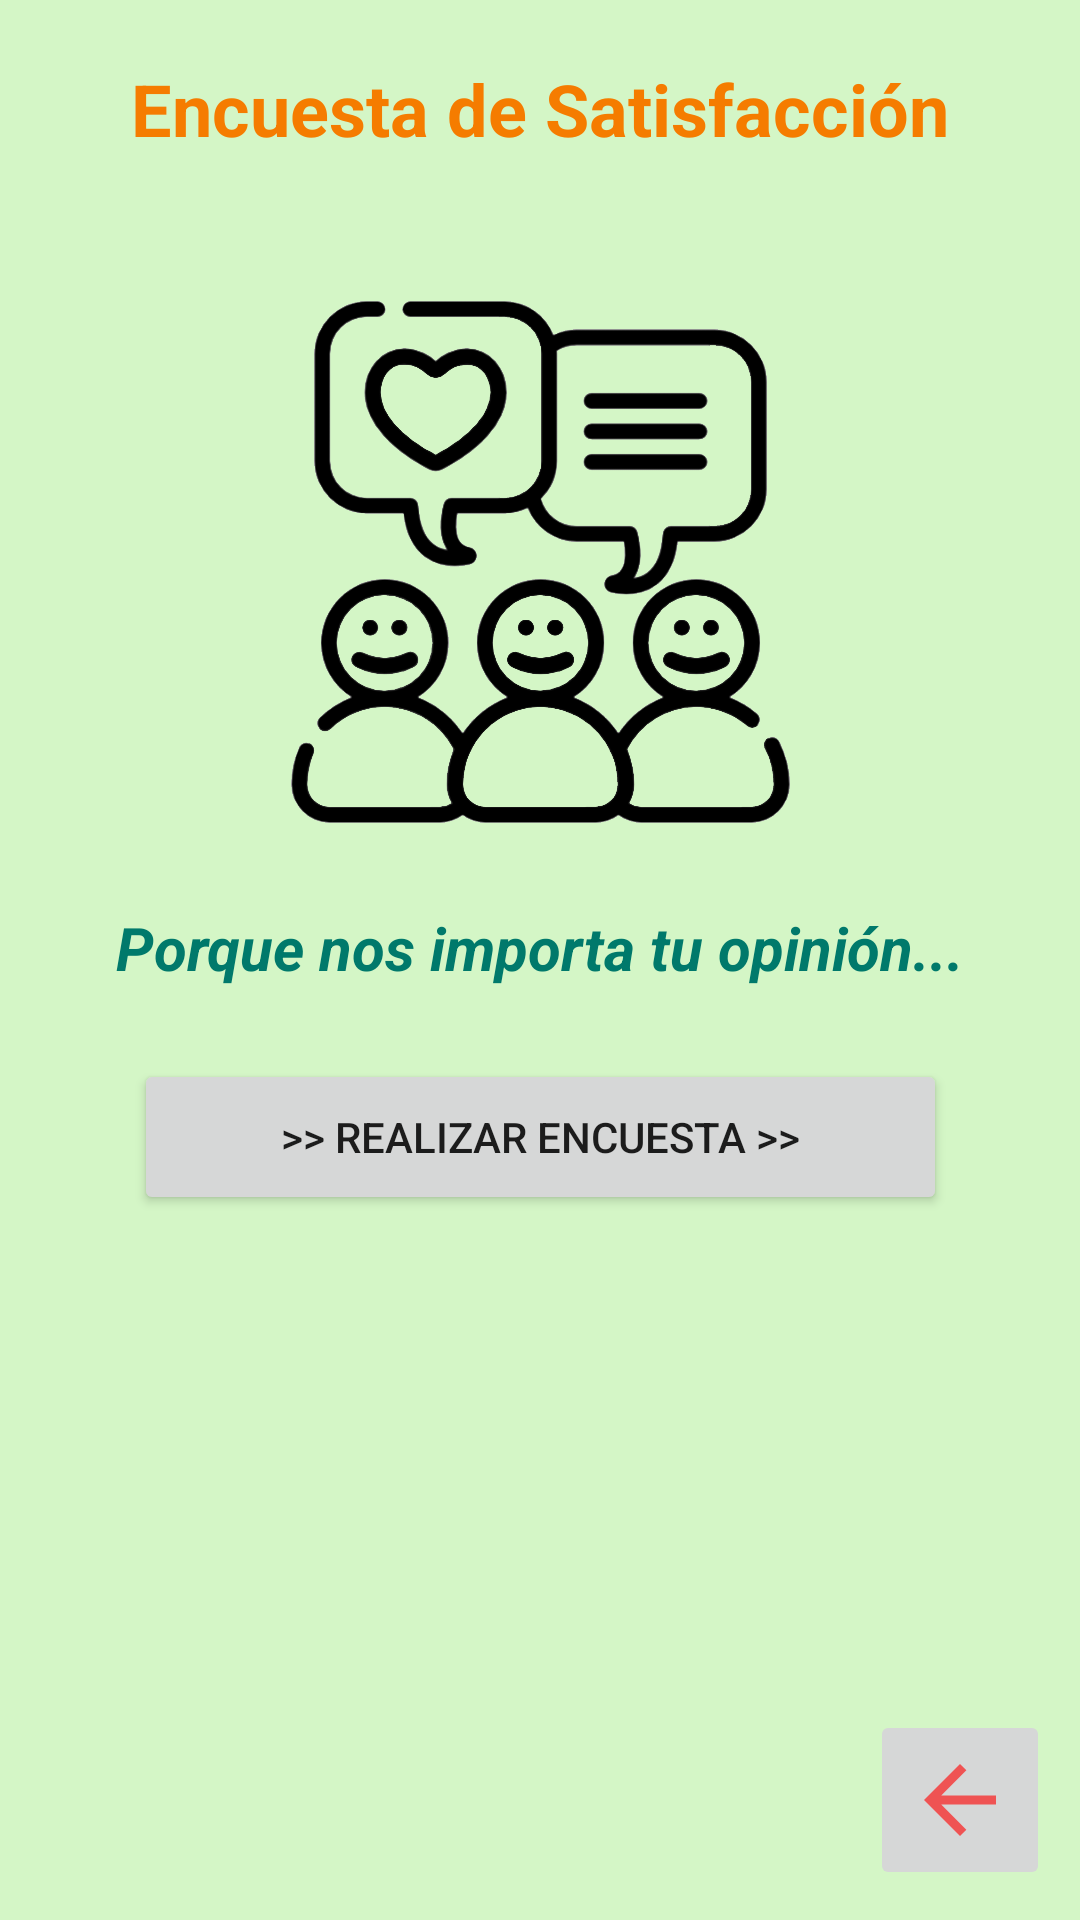

Icon click points for this 1080px x 1920px phone screenshot, format point (x, y):
arrow back: point (960, 1800)
